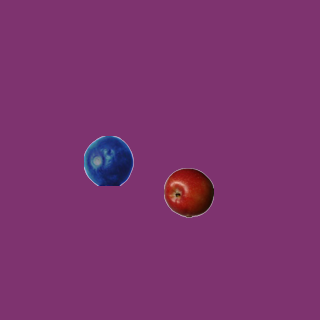Apple Braeburn: (163, 167, 213, 217)
Huckleberry: (83, 135, 133, 185)
